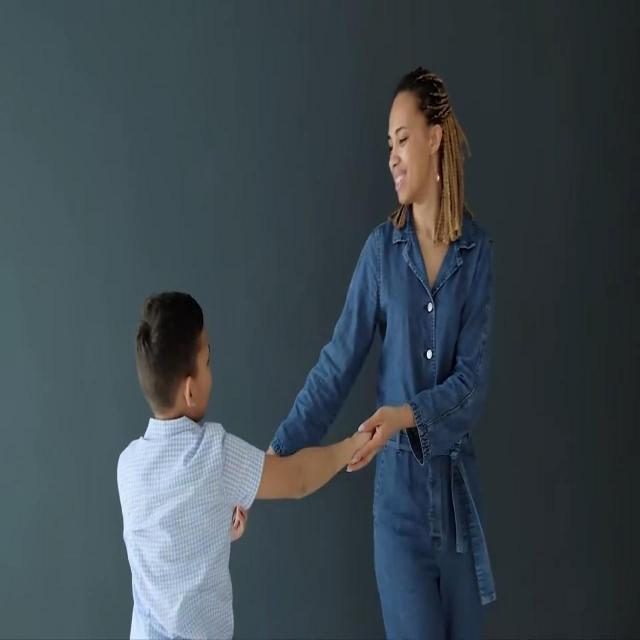person: (266, 65, 498, 638), (116, 290, 384, 638)
